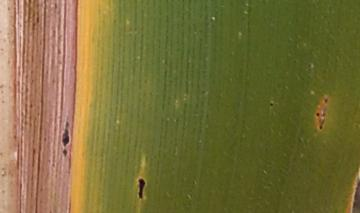tarspot: (62, 121, 72, 159), (135, 175, 148, 201)
